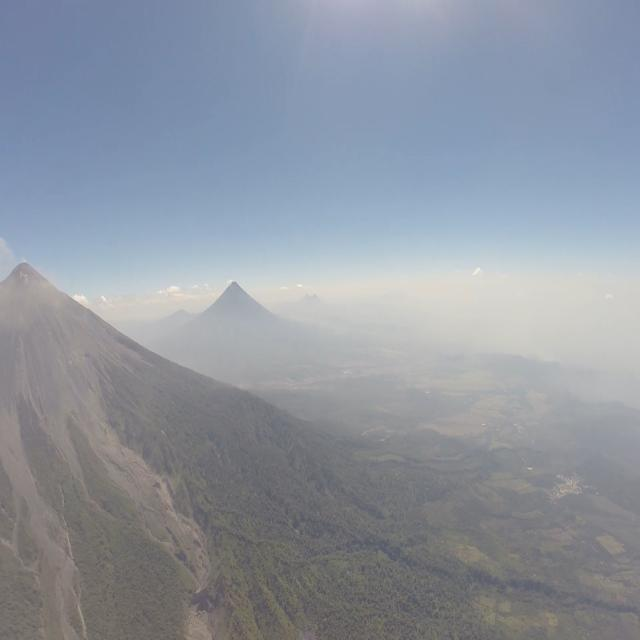Summit: (0, 256, 56, 300)
